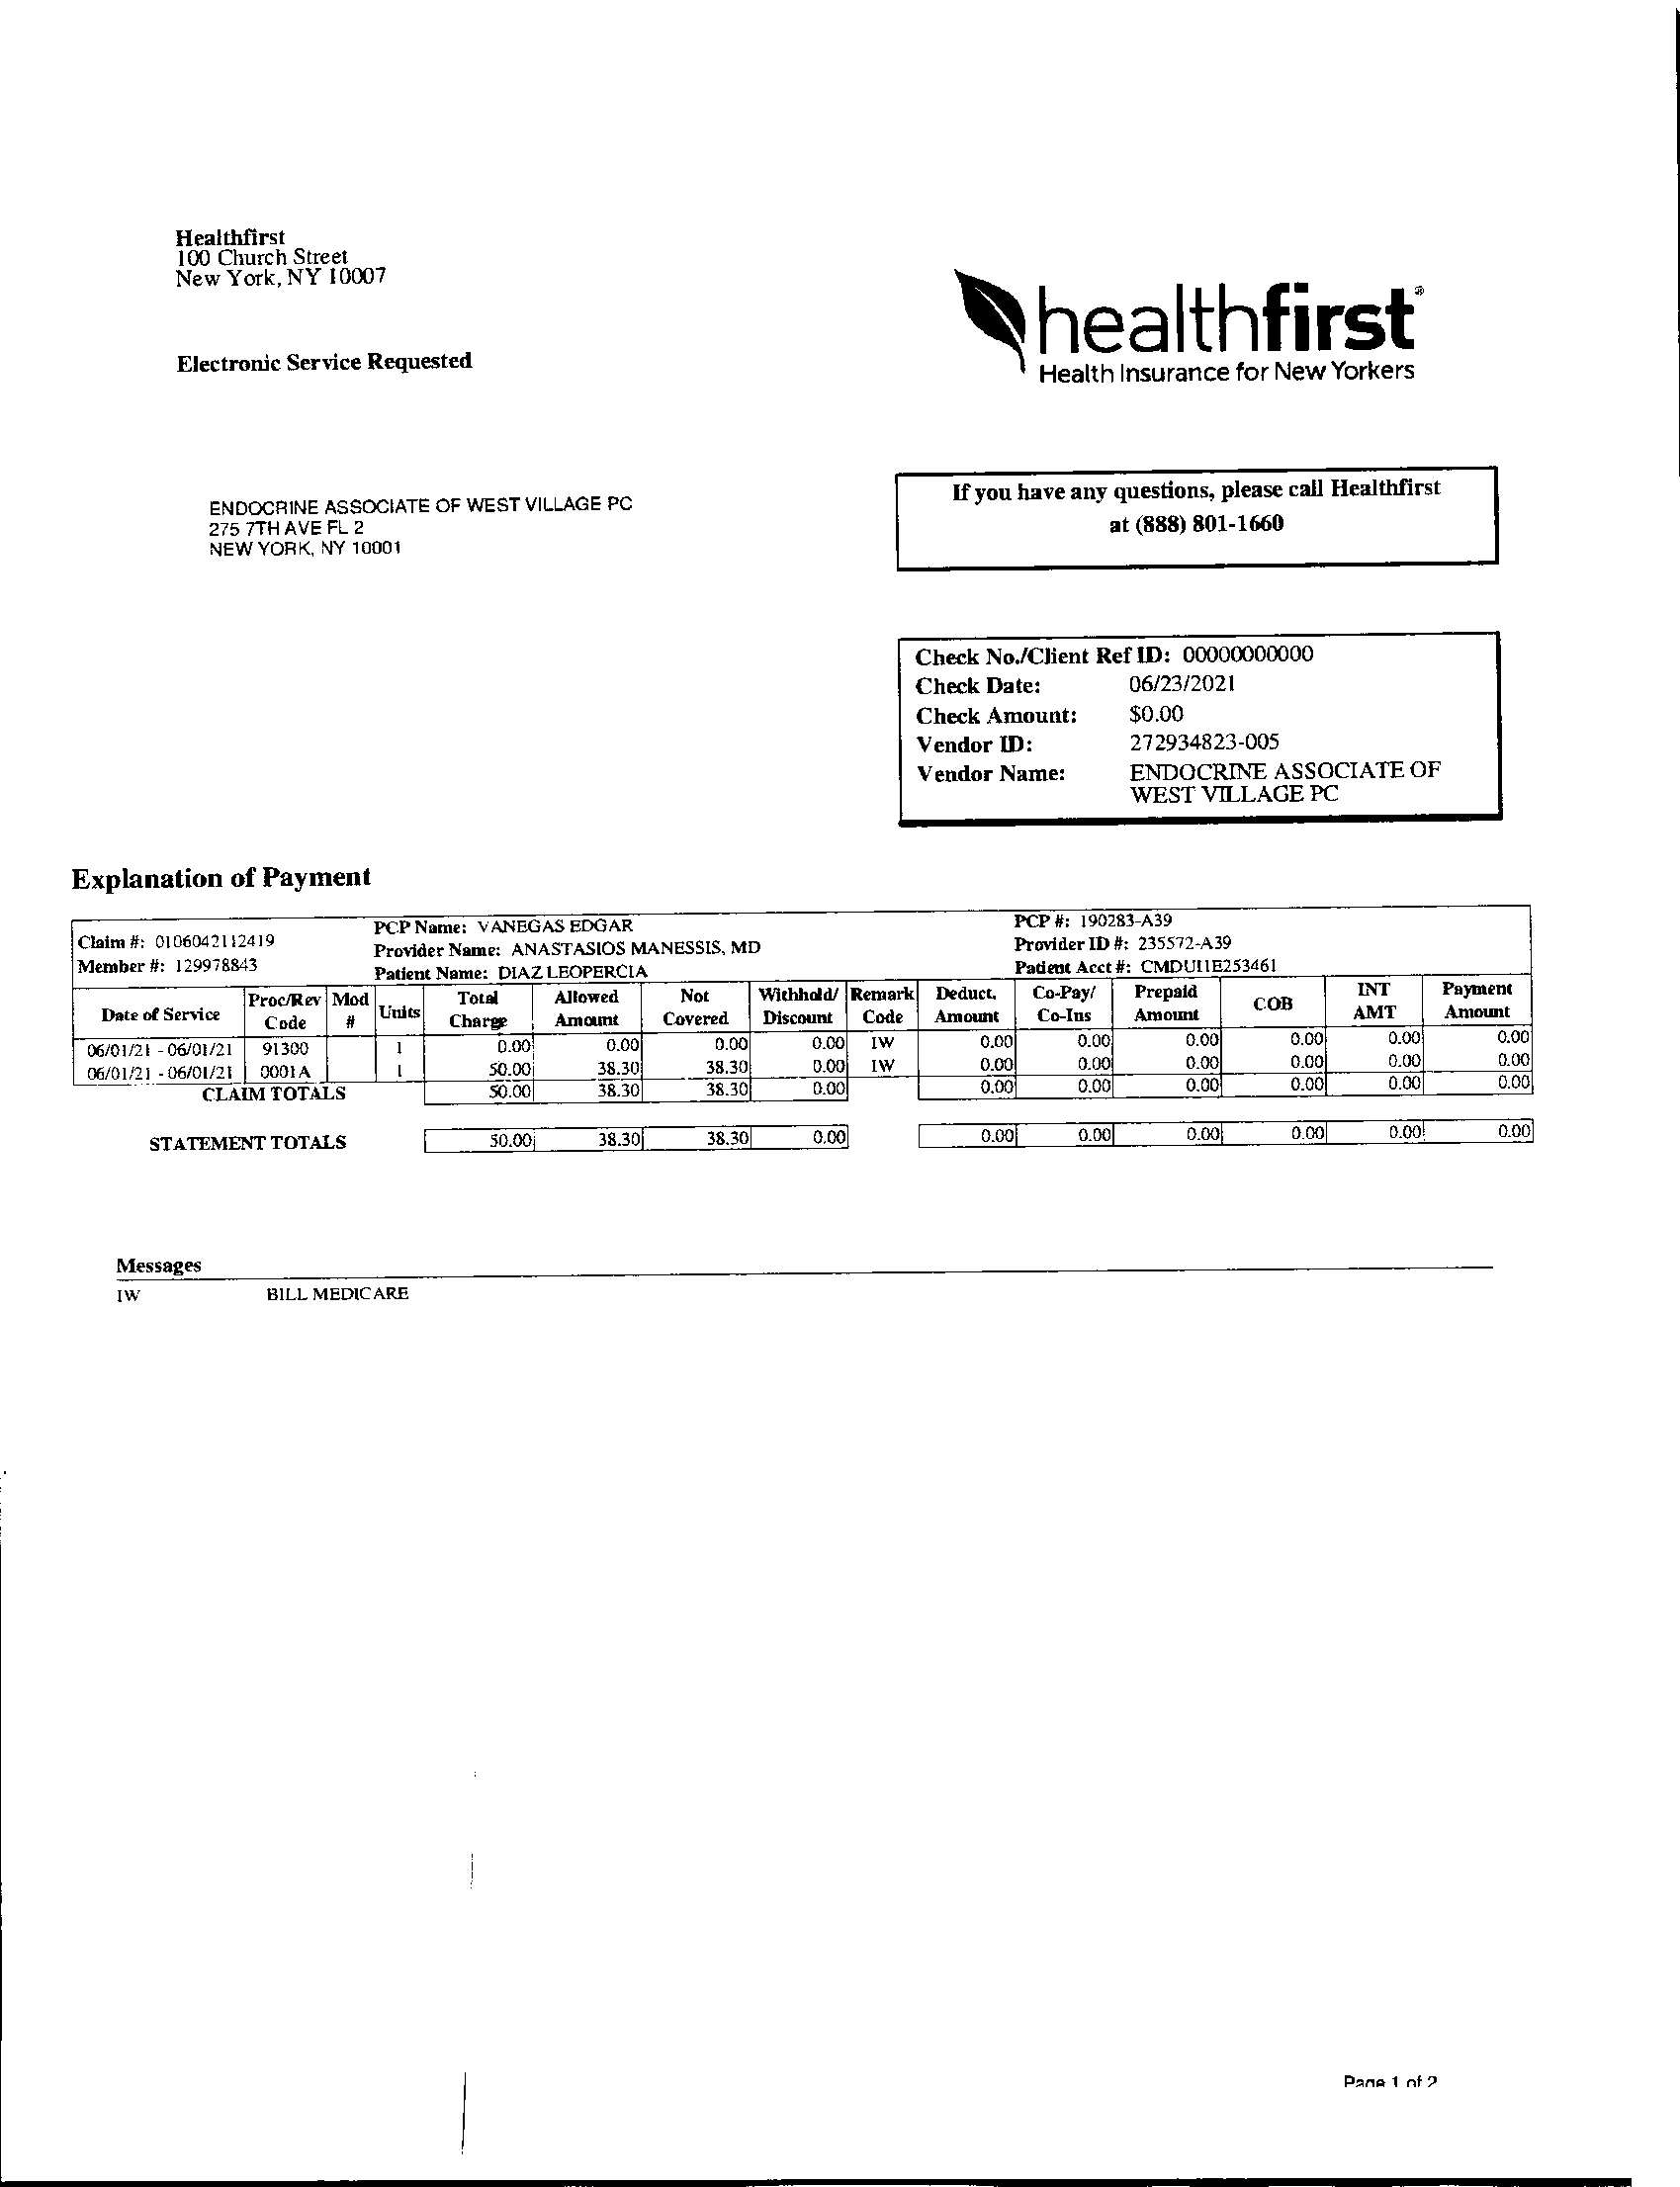data: (884, 621, 1523, 843)
table: (62, 903, 1553, 1161)
